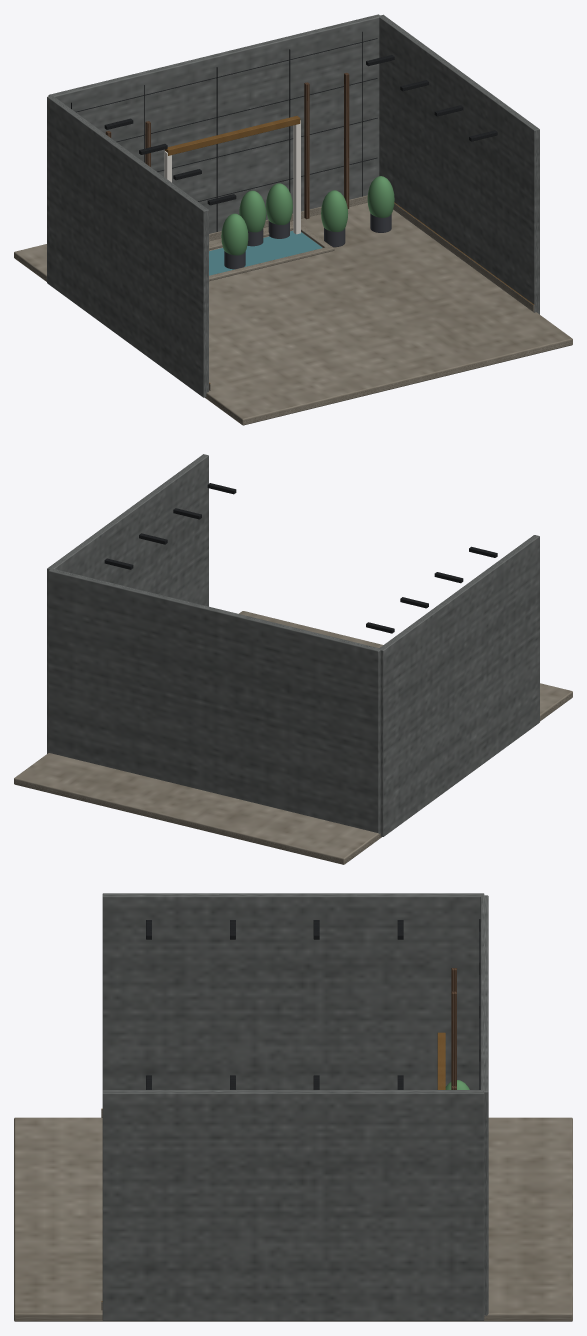
3 renders of one model, top to bottom at view 1: azimuth 30°, elevation 25°; view 2: azimuth 150°, elevation 25°; view 3: azimuth 270°, elevation 25°, orthographic. The views are drawn at different scales.
Visible parts, largest first — view 1: Room floor, Back wall, Left wall, Right wall, Reflecting pool, Entrance lintel, Inset perimeter skirting.001, Foliage volume, Foliage volume.001, Foliage volume.005, Foliage volume.003, Ceremonial entrance.001 (+4 smaller); view 2: Back wall, Left wall, Room floor, Right wall; view 3: Right wall, Left wall, Room floor, Back wall, Garden architectural timber screen.001.
Boxes of the visible parts, <box> form: Room floor: <box>14,202,572,425</box>; Back wall: <box>48,14,380,233</box>; Left wall: <box>47,95,208,397</box>; Right wall: <box>379,14,539,314</box>; Reflecting pool: <box>209,231,322,275</box>; Entrance lintel: <box>165,116,300,155</box>; Inset perimeter skirting.001: <box>393,203,534,311</box>; Foliage volume: <box>221,213,248,255</box>; Foliage volume.001: <box>367,176,394,217</box>; Foliage volume.005: <box>321,190,348,232</box>; Foliage volume.003: <box>266,183,292,225</box>; Ceremonial entrance.001: <box>293,120,300,234</box>; Back wall: <box>48,568,380,833</box>; Left wall: <box>379,535,539,836</box>; Room floor: <box>14,611,572,864</box>; Right wall: <box>47,454,208,753</box>; Right wall: <box>102,1090,484,1320</box>; Left wall: <box>102,893,484,1089</box>; Room floor: <box>14,1117,572,1321</box>; Back wall: <box>480,895,488,1318</box>; Garden architectural timber screen.001: <box>451,991,456,1086</box>.
Bounding box in the file's own units: 10.18 × 5.47 × 12.
Materials: 10 (6 with a texture image).
